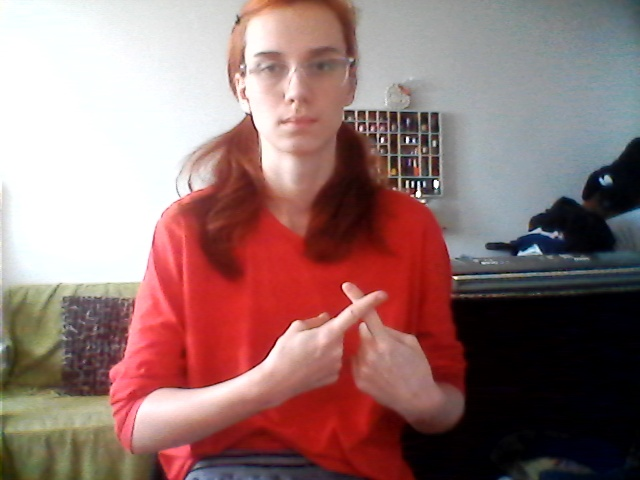x: (253, 273, 437, 428)
